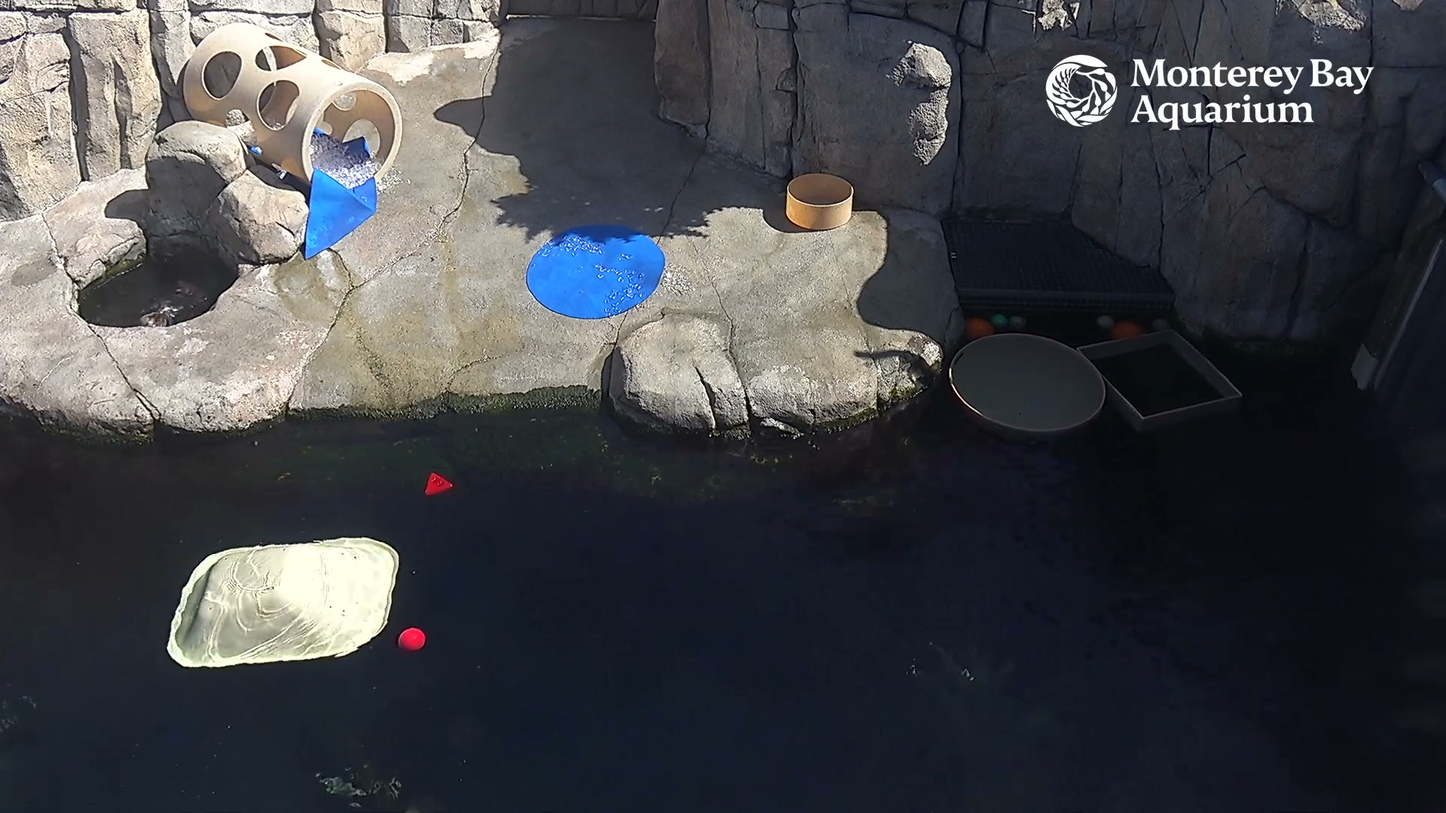Southern Sea Otter: (128, 275, 222, 332)
